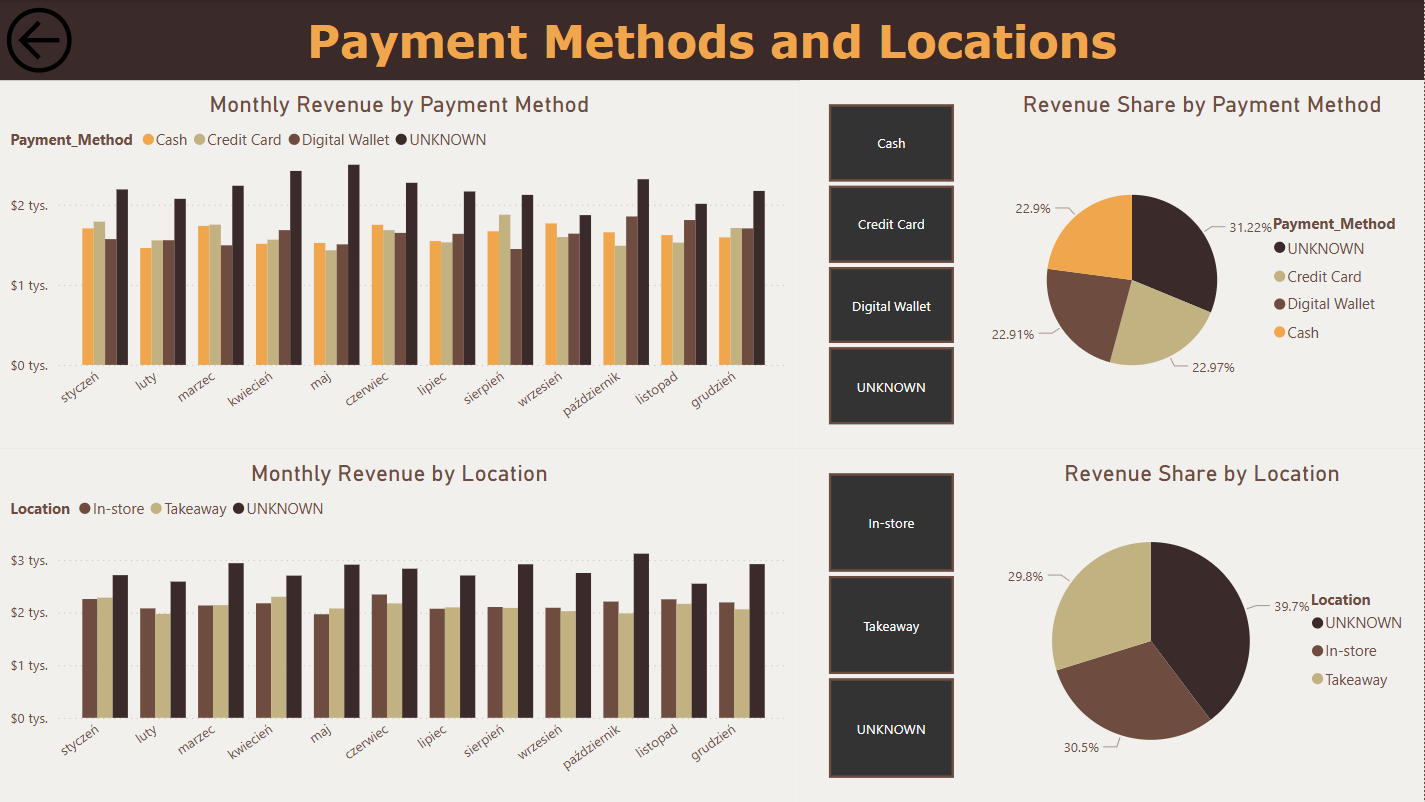

This screenshot's page, from the dashboard's own definition file:
{"tool":"powerbi","page":{"name":"Transactions","canvas":[1280,720],"ordinal":2},"visuals":[{"type":"clusteredColumnChart","title":"Monthly Revenue by Payment Method","fields":{"Category":["Calendar.MonthName"],"Y":["Sum(CafeSalesFinal.Total_Spent)"],"Series":["CafeSalesFinal.Payment_Method"]},"box":[0,72.2,718.9,331.1],"z":0},{"type":"shape","title":"jghj","box":[0,0,1280,72.2],"z":1000},{"type":"slicer","fields":{"Values":["CafeSalesFinal.Payment_Method"]},"box":[718.9,72.2,162.2,331.1],"z":2000},{"type":"pieChart","title":"Amount of transactions","fields":{"Category":["CafeSalesFinal.Payment_Method"],"Y":["CountNonNull(CafeSalesFinal.Transaction_ID)"]},"box":[881.1,72.2,398.9,331.1],"z":3000},{"type":"pieChart","title":"Amount of transactions","fields":{"Category":["CafeSalesFinal.Location"],"Y":["CountNonNull(CafeSalesFinal.Transaction_ID)"]},"box":[881.1,403.3,398.9,316.7],"z":4000},{"type":"clusteredColumnChart","title":"Monthly Revenue by Location","fields":{"Category":["Calendar.MonthName"],"Y":["Sum(CafeSalesFinal.Total_Spent)"],"Series":["CafeSalesFinal.Location"]},"box":[0,403.3,718.9,316.7],"z":5000},{"type":"slicer","fields":{"Values":["CafeSalesFinal.Location"]},"box":[718.9,403.3,162.2,316.7],"z":6000},{"type":"actionButton","box":[0,0,74.4,72.2],"z":7000}]}

Visuals, with their boxes in screenshot pixels (x1, y1, x2, y2), scaled from the page's 1280x720 canvas onto the 1425x802 screenshot:
"Monthly Revenue by Payment Method" clusteredColumnChart: l=0, t=80, r=800, b=449
"jghj" shape: l=0, t=0, r=1424, b=80
slicer - CafeSalesFinal.Payment_Method: l=800, t=80, r=981, b=449
"Amount of transactions" pieChart: l=981, t=80, r=1424, b=449
"Amount of transactions" pieChart: l=981, t=449, r=1424, b=801
"Monthly Revenue by Location" clusteredColumnChart: l=0, t=449, r=800, b=801
slicer - CafeSalesFinal.Location: l=800, t=449, r=981, b=801
actionButton: l=0, t=0, r=83, b=80
